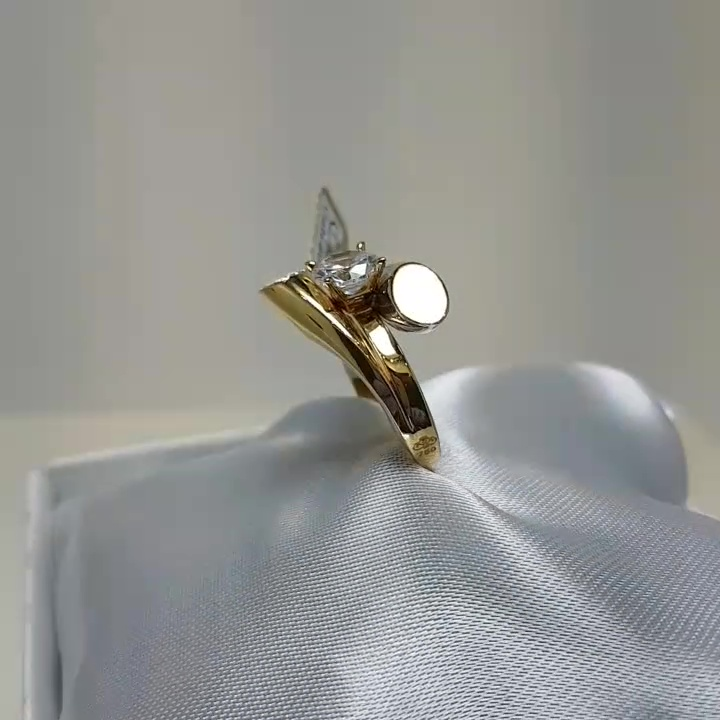Ring 7: (241, 221, 490, 488)
